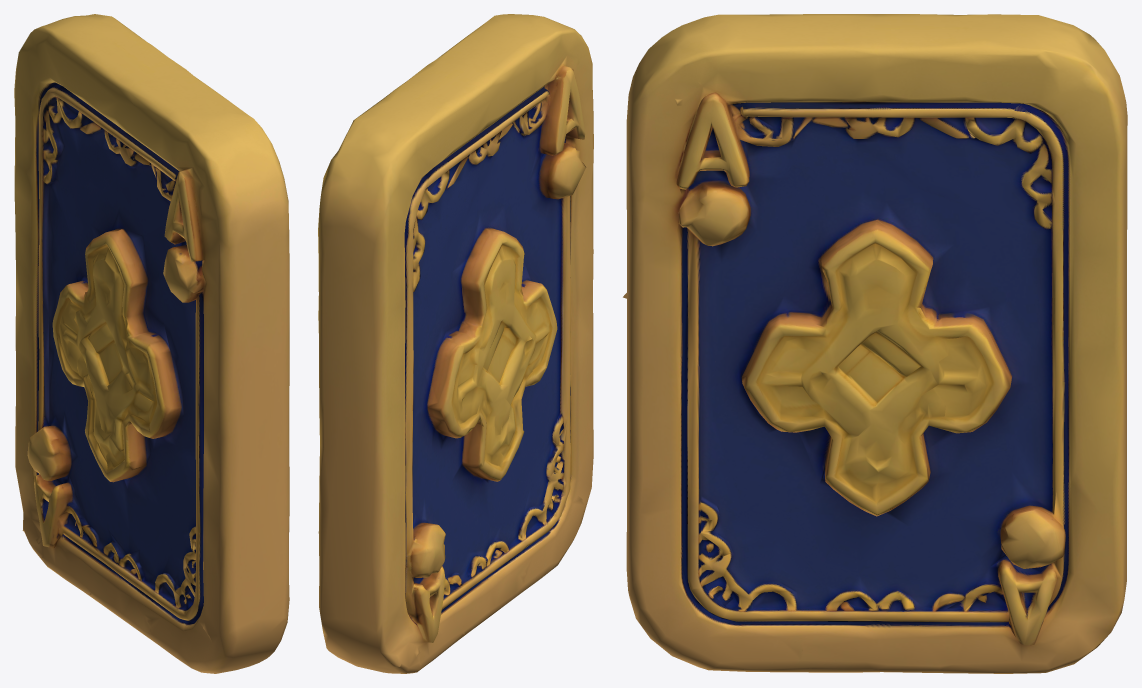
File: magic_card.glb
3 views of the same model, side by side, from view 1: azimuth 30°, elevation 25°; view 2: azimuth 150°, elevation 25°; view 3: azimuth 270°, elevation 25° (orthographic). The views are drawn at different scales.
Visible parts, largest first — view 1: tripo_node_fec9c913-0686-47da-bb85-c794950cdac8; view 2: tripo_node_fec9c913-0686-47da-bb85-c794950cdac8; view 3: tripo_node_fec9c913-0686-47da-bb85-c794950cdac8.
Part boxes in pixels (box(x1,y1,x2,y2)): tripo_node_fec9c913-0686-47da-bb85-c794950cdac8: box(14, 14, 289, 673); tripo_node_fec9c913-0686-47da-bb85-c794950cdac8: box(318, 14, 593, 673); tripo_node_fec9c913-0686-47da-bb85-c794950cdac8: box(623, 14, 1127, 673).
Size of the model in its own units: 0.196 by 0.9799 by 0.7106.
1 material, 1 textured.
